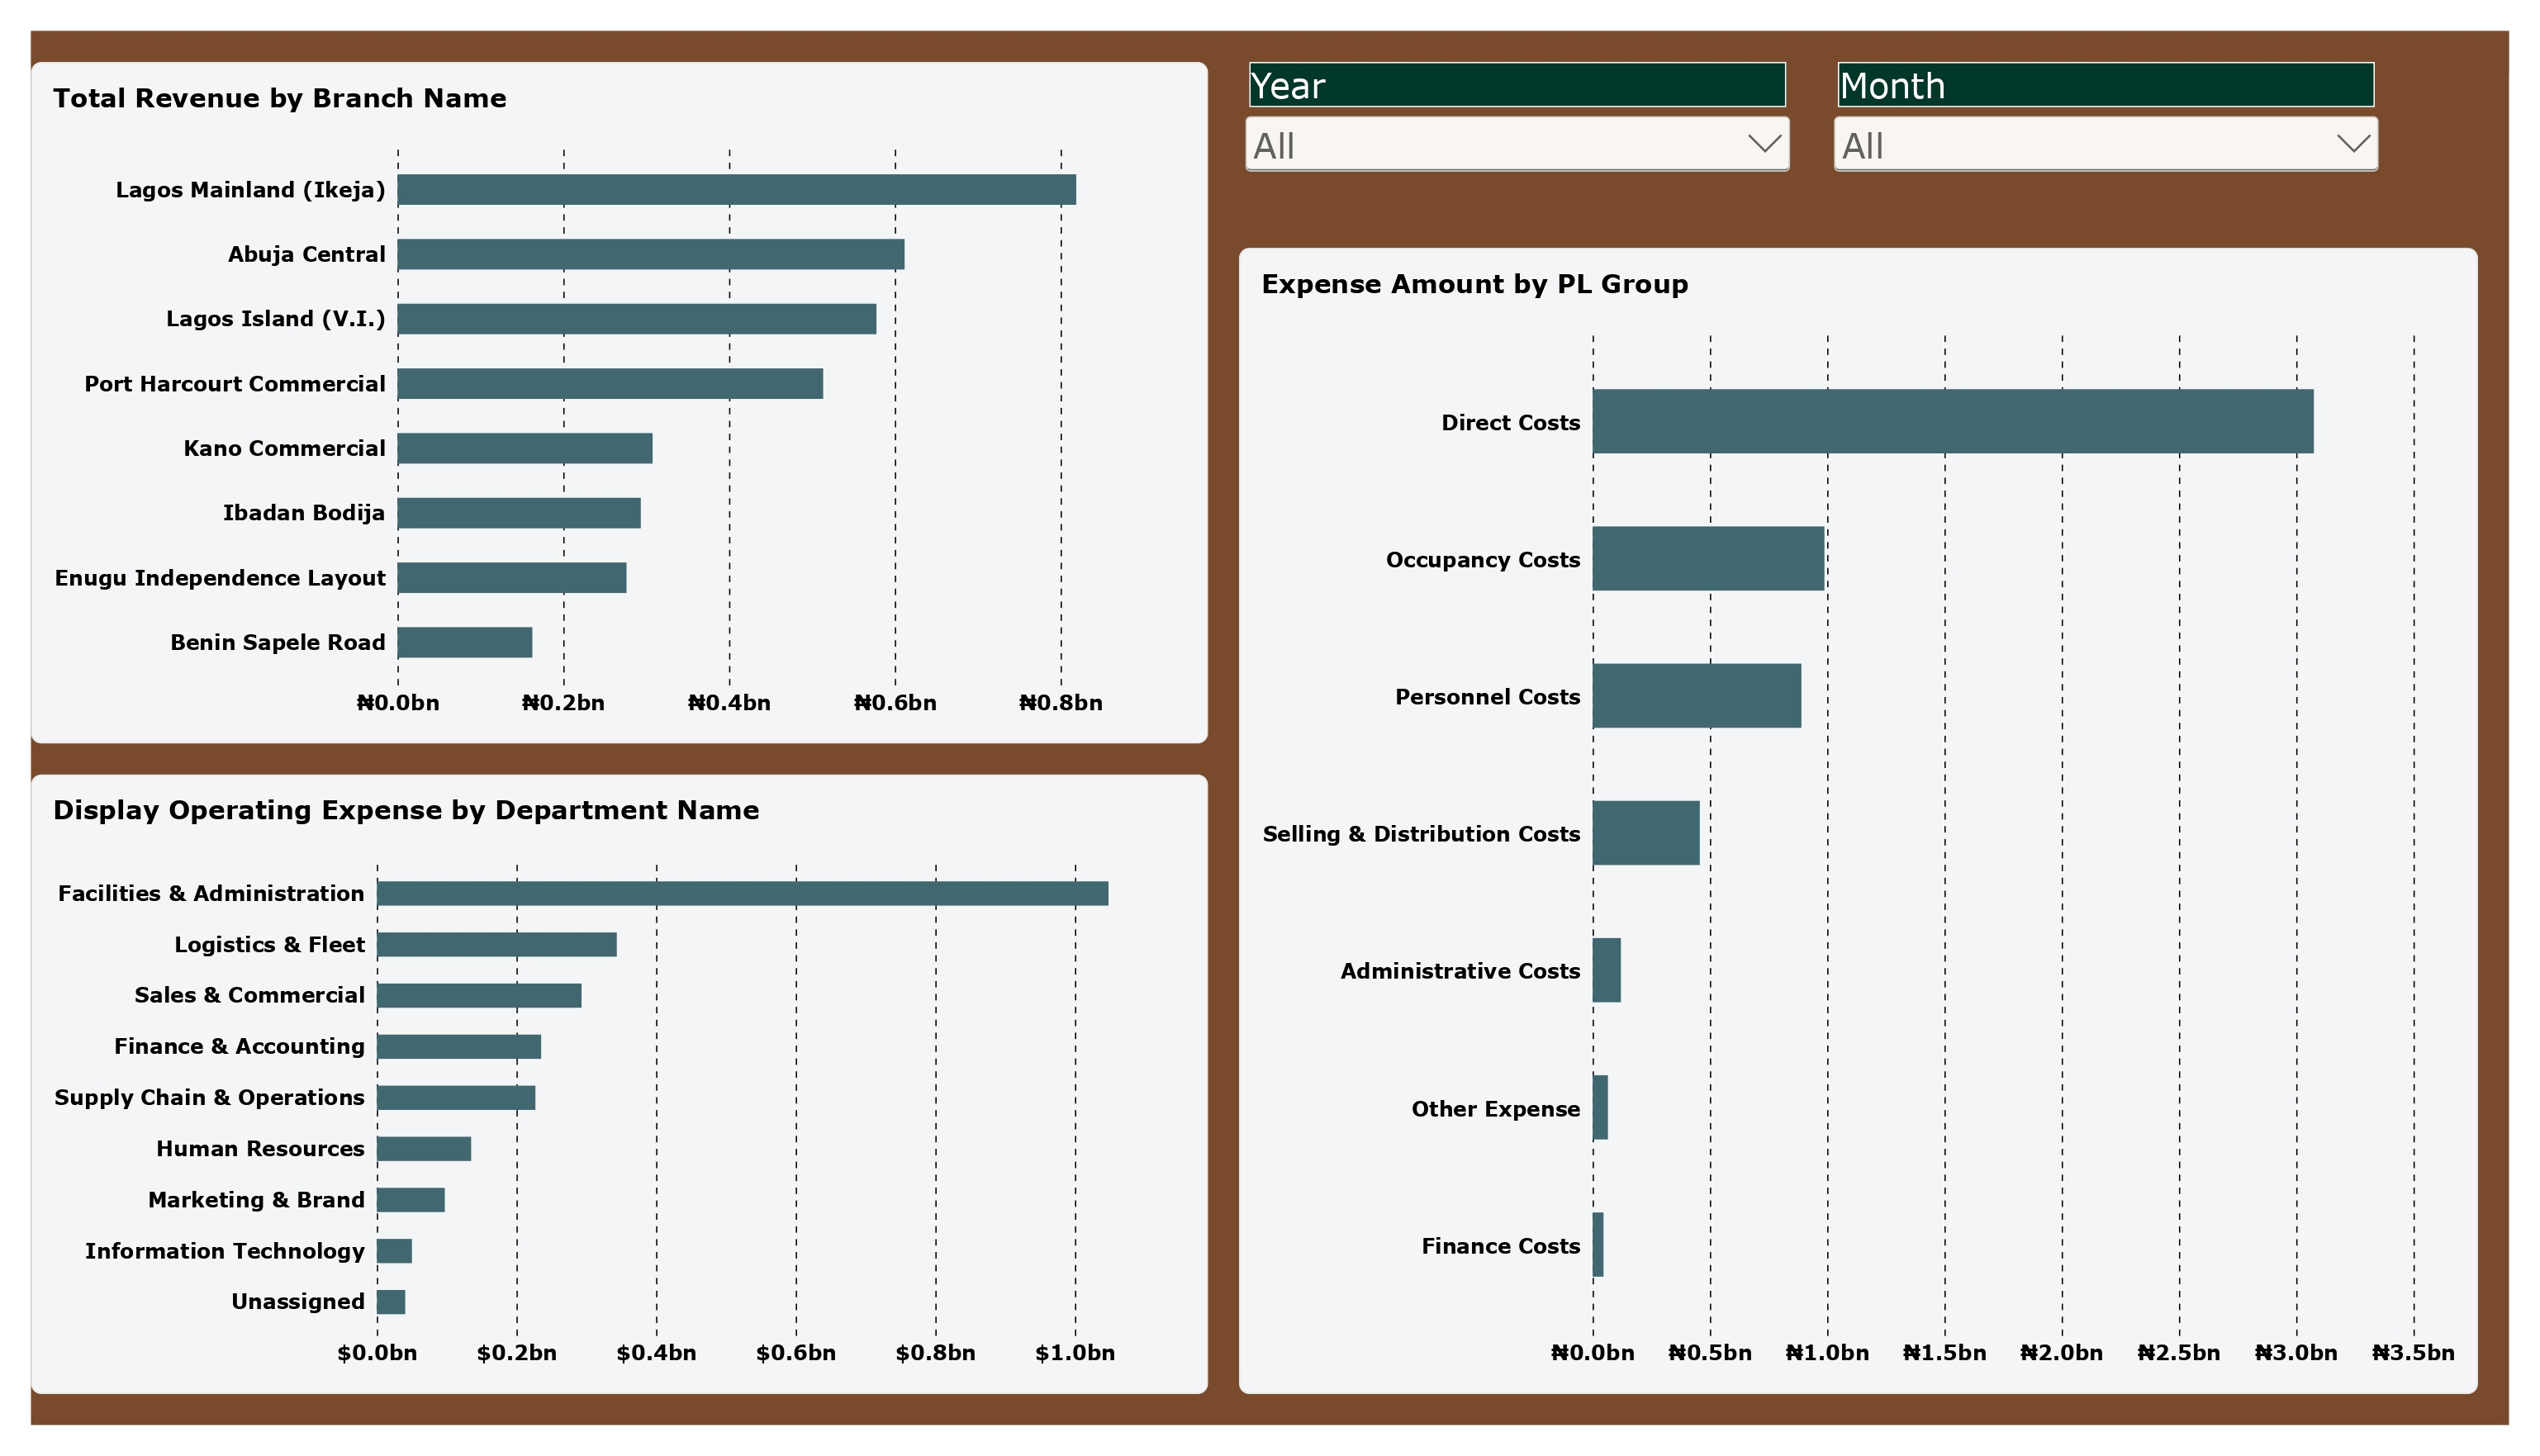

What the dashboard file says about the page in this screenshot:
{"tool":"powerbi","page":{"name":"Operational Analysis","canvas":[1920,1080],"ordinal":3},"visuals":[{"type":"clusteredBarChart","fields":{"Category":["Branch.Branch Name"],"Y":["Dax Measures.Total Revenue"]},"box":[0,24,912,528],"z":0},{"type":"clusteredBarChart","fields":{"Category":["Department.Department Name"],"Y":["Dax Measures.Display Operating Expense"]},"box":[0,576,912,480],"z":1000},{"type":"clusteredBarChart","fields":{"Category":["Account.PL Group"],"Y":["Dax Measures.Expense Amount"]},"box":[936,168,960,888],"z":2000},{"type":"slicer","fields":{"Values":["Date.Year"]},"box":[936,24,432,144],"z":3000},{"type":"slicer","fields":{"Values":["Date.Month"]},"box":[1392,24,432,144],"z":4000}]}

Visuals, with their boxes on the page's 1920x1080 design canvas (x1, y1, x2, y2). These are canvas units, not pixel positions in the 2540x1456 screenshot, which may show the page scaled, cropped or inside an application window:
clusteredBarChart - Branch.Branch Name x Dax Measures.Total Revenue: (0, 24, 912, 552)
clusteredBarChart - Department.Department Name x Dax Measures.Display Operating Expense: (0, 576, 912, 1056)
clusteredBarChart - Account.PL Group x Dax Measures.Expense Amount: (936, 168, 1896, 1056)
slicer - Date.Year: (936, 24, 1368, 168)
slicer - Date.Month: (1392, 24, 1824, 168)
